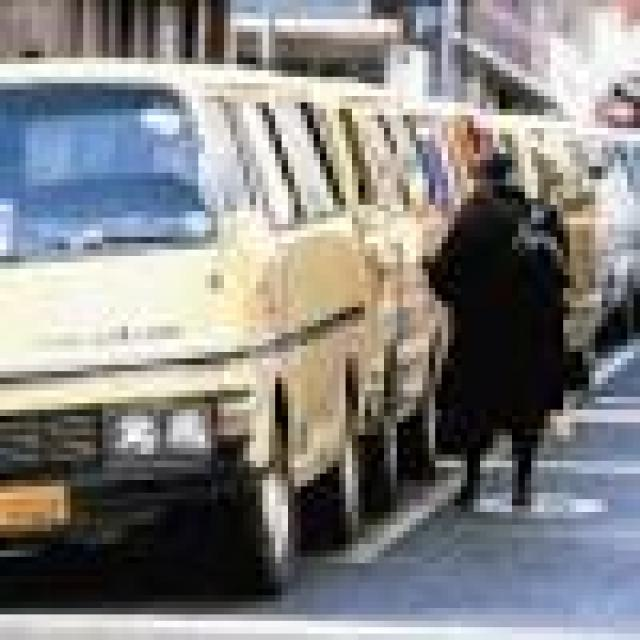MiniBus taxi: (7, 58, 346, 602)
